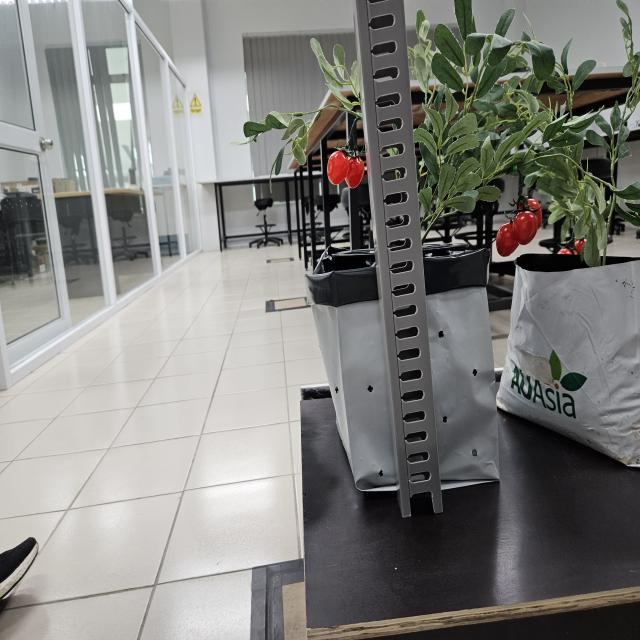Obstacle: (356, 0, 445, 518)
Soilbag: (305, 249, 500, 518), (496, 256, 640, 473)
Tomato: (495, 198, 543, 257), (324, 143, 368, 193)
plant: (243, 10, 597, 243), (528, 18, 640, 268), (546, 40, 596, 133), (502, 196, 542, 258)
